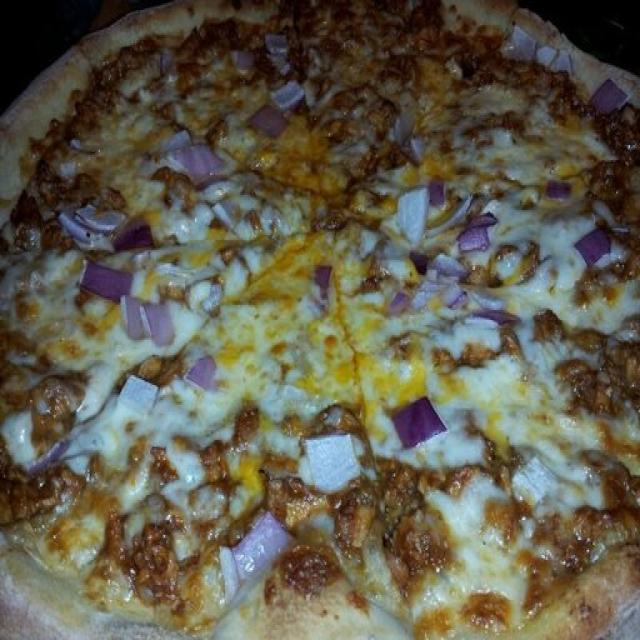Onions: (75, 266, 173, 344), (225, 511, 285, 582), (298, 431, 357, 488), (401, 185, 446, 247), (400, 394, 440, 462), (171, 134, 226, 180), (65, 200, 116, 243), (424, 256, 456, 306), (27, 440, 69, 475), (394, 118, 424, 163), (576, 222, 604, 270), (585, 82, 623, 115), (538, 47, 573, 80), (254, 105, 290, 136), (266, 28, 290, 72), (463, 220, 494, 253), (464, 308, 514, 328), (509, 22, 532, 64), (314, 260, 332, 313), (381, 292, 410, 323), (190, 359, 216, 388), (545, 180, 577, 203), (270, 82, 302, 104), (238, 40, 258, 75)
Pizza: (0, 0, 640, 640)
